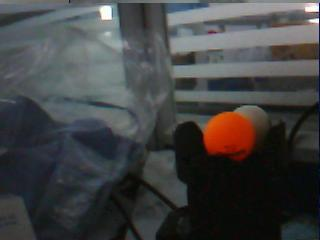oball: (204, 112, 255, 155)
